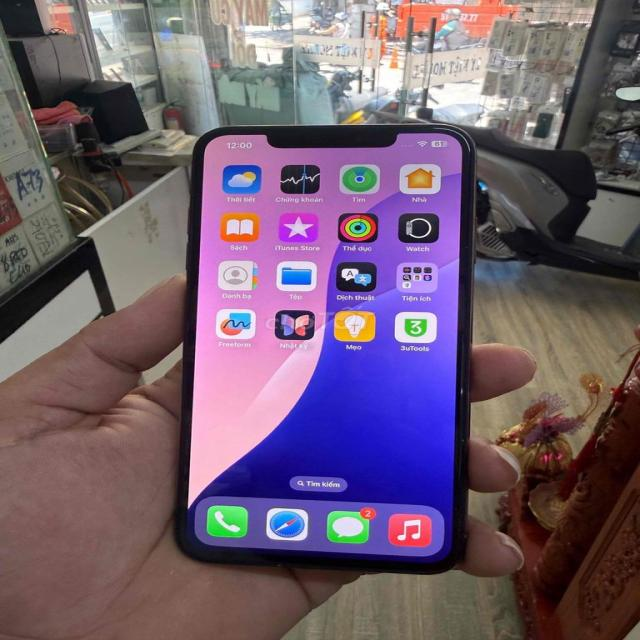gen_x_xs: (173, 120, 478, 584)
